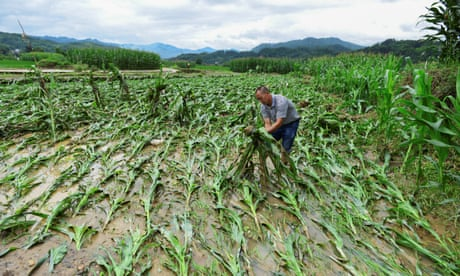damaged_tomato: (2, 56, 252, 276), (301, 57, 458, 276)
